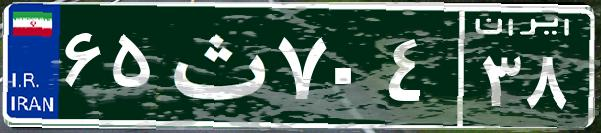0: (330, 28, 385, 110)
3: (475, 38, 525, 113)
4: (385, 28, 445, 110)
5: (110, 28, 158, 105)
6: (57, 26, 110, 107)
7: (273, 28, 330, 110)
8: (525, 38, 570, 115)
ث: (158, 15, 273, 115)
